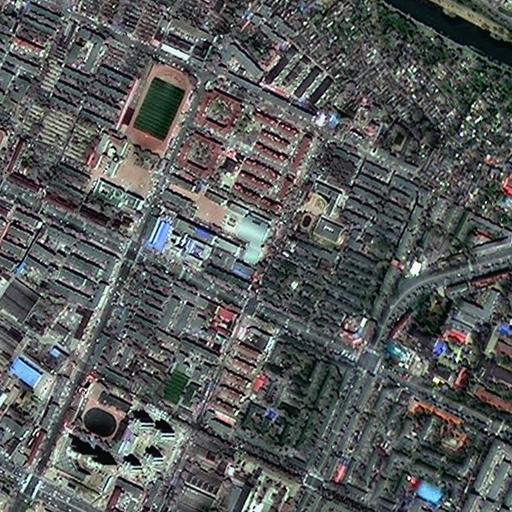school: (85, 53, 198, 222), (60, 377, 135, 448)
